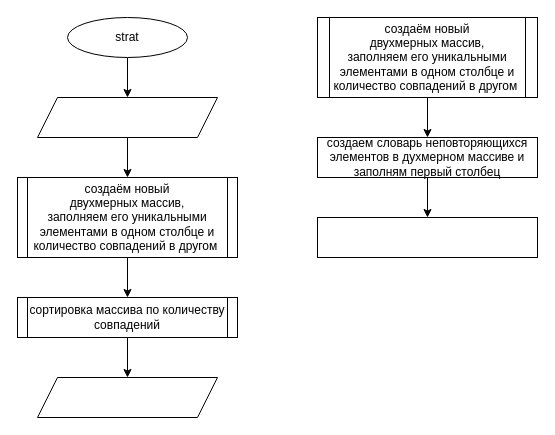
The diagram is 555 pixels wide and 435 high, and some of its shapes have lost their labels. The shapes that lost their labels are listed below. From the top down, each one's centre as x and y in pixels, then its label:
the point at 127,117: получение двухмерного массива данных
the point at 427,237: подсчитываем количество совпадений по словарю
the point at 127,397: вывод результатов анализа
